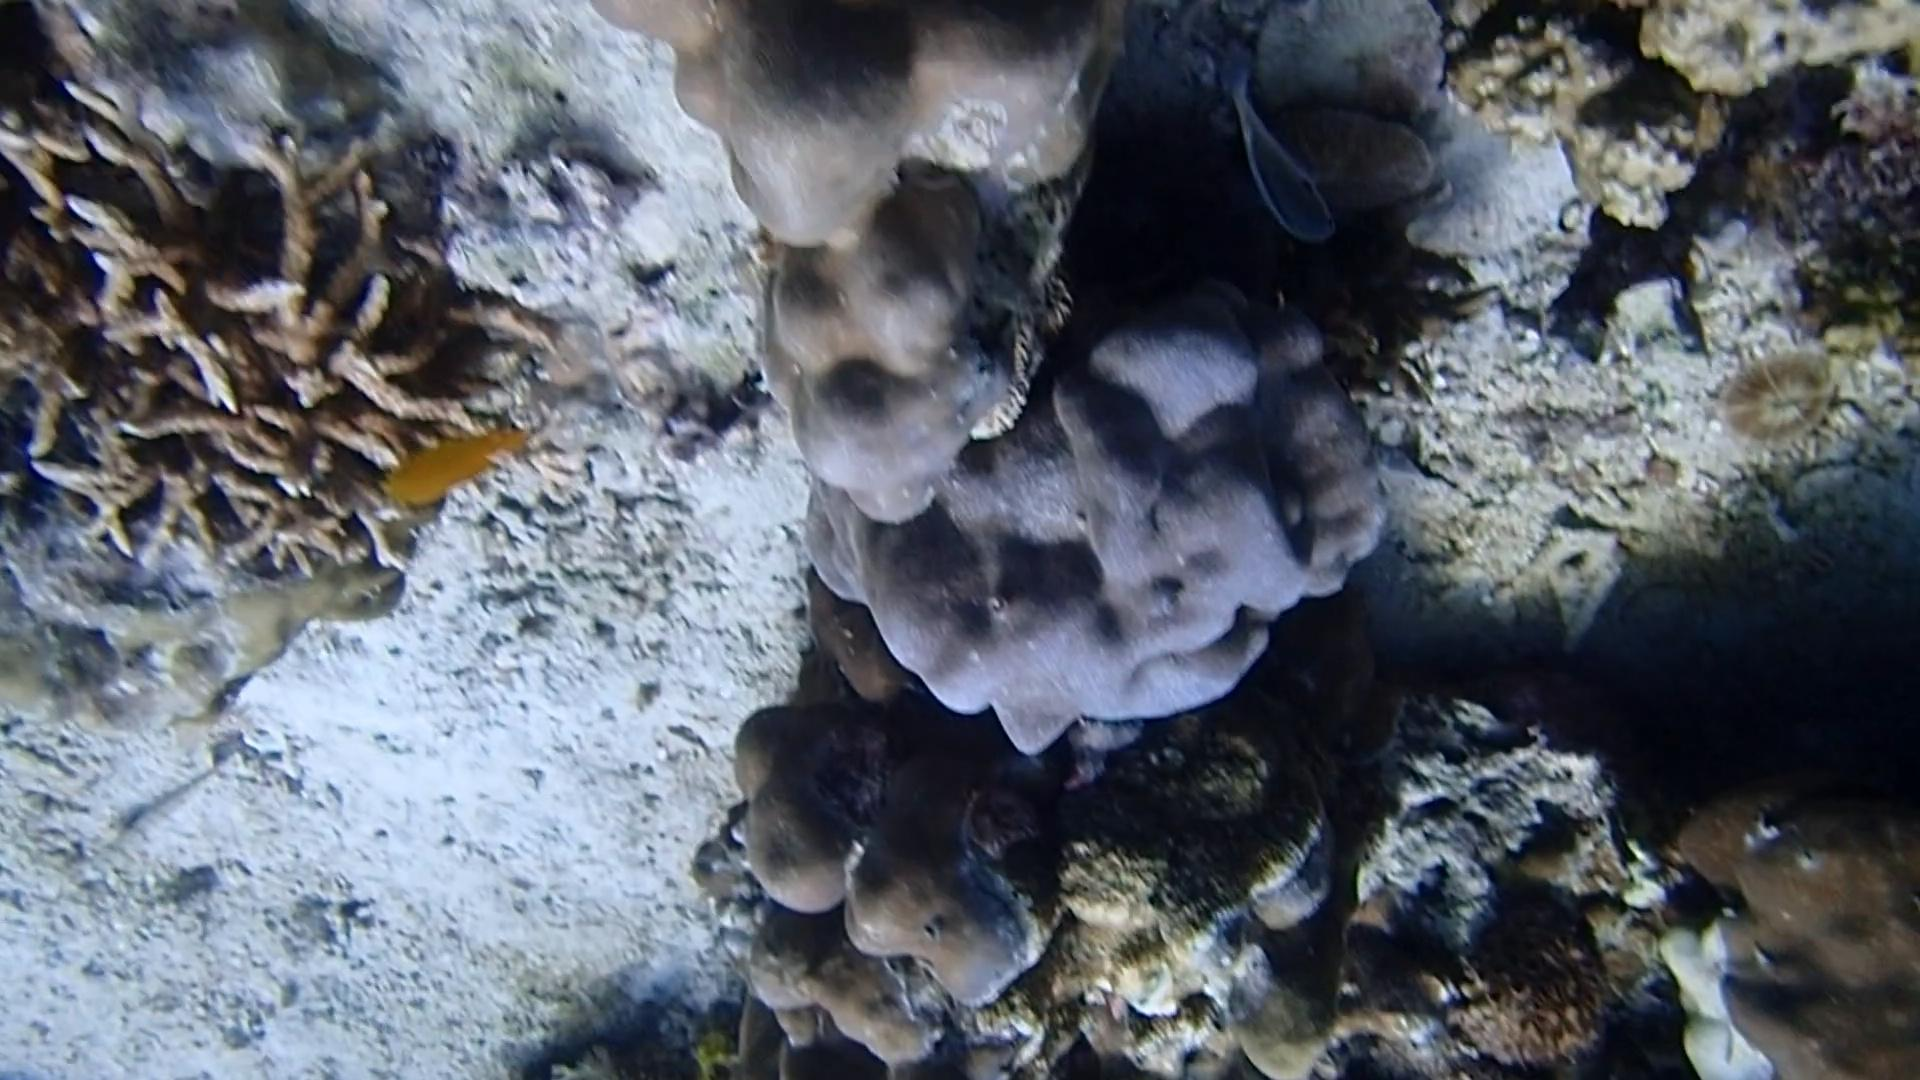Blue Fish Two: (1217, 50, 1344, 252)
Yellow Fish: (372, 417, 529, 517)
